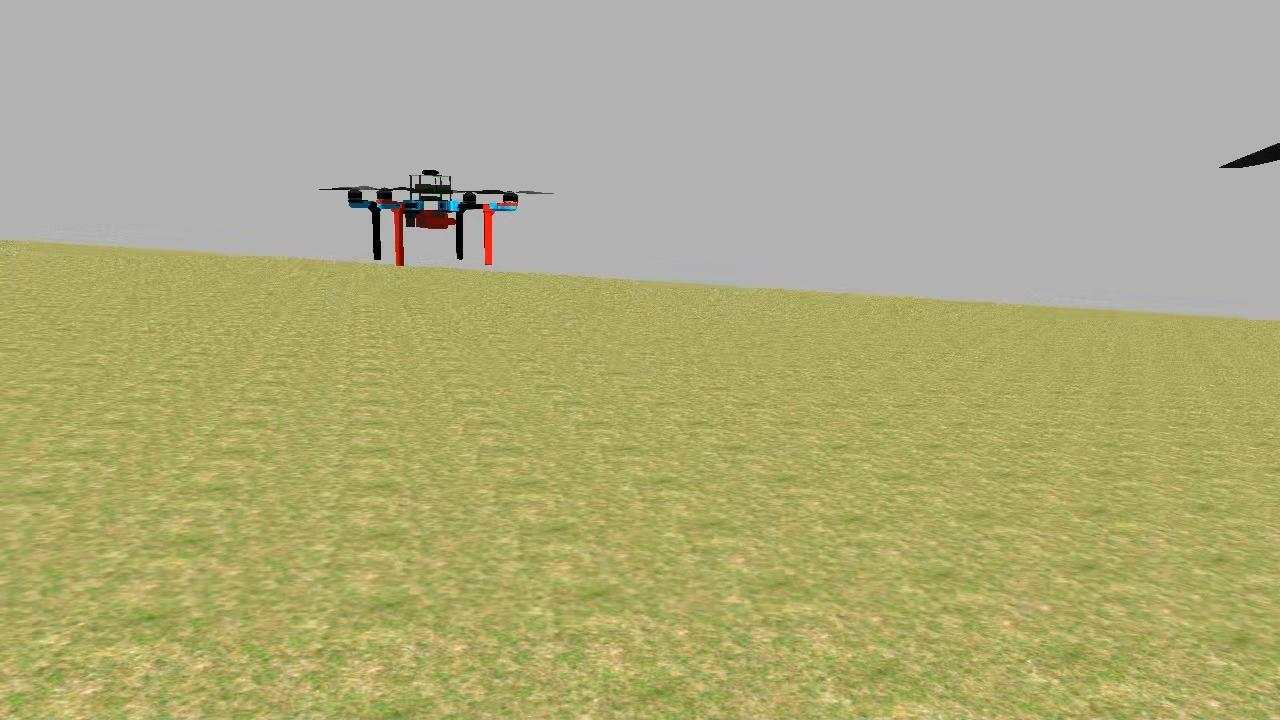UAV: (342, 160, 526, 268)
